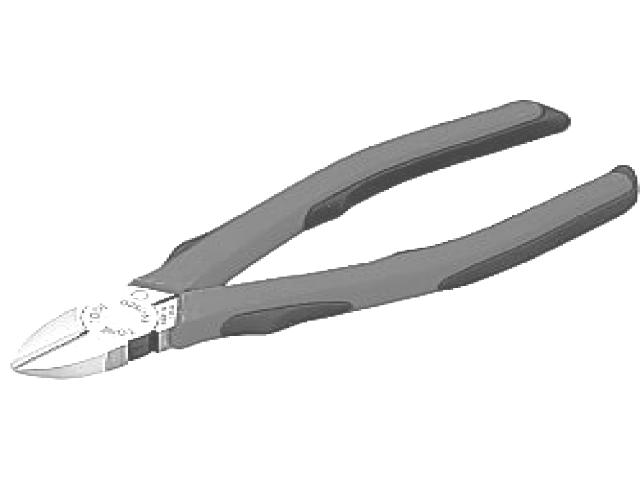Cutting pliers: (12, 100, 636, 377)
